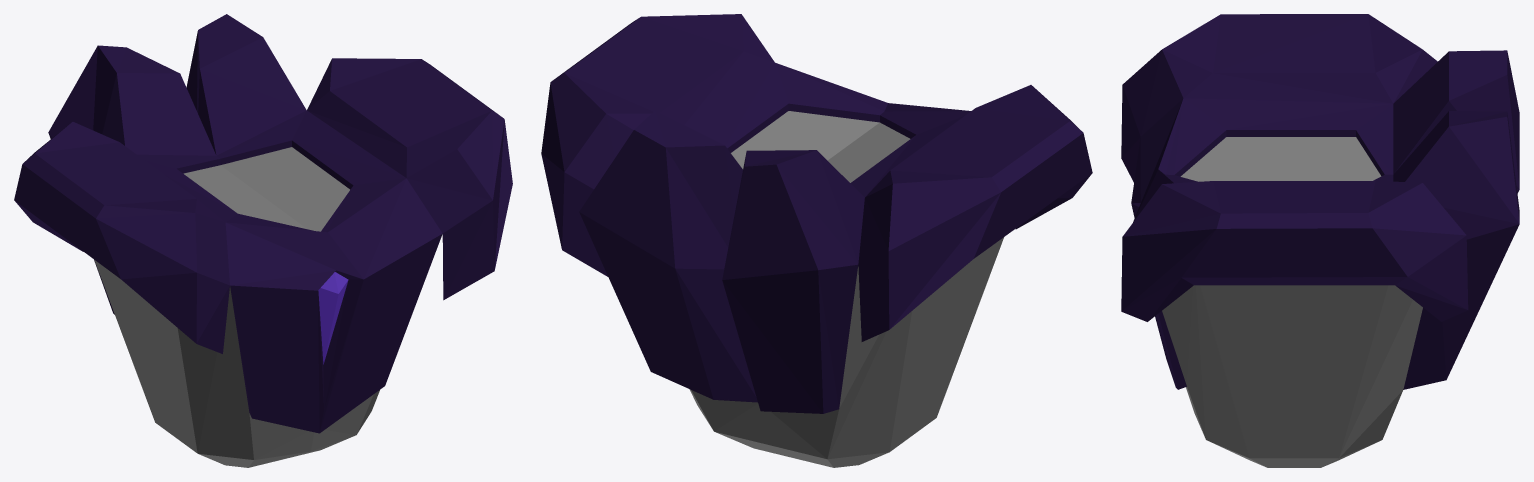
The model's file is Puranium jet suit.fbx.
The picture shows the model from 3 angles, left to right: view 1: azimuth 30°, elevation 25°; view 2: azimuth 150°, elevation 25°; view 3: azimuth 270°, elevation 25°; orthographic projection. The views are drawn at different scales.
Parts seen in each view (by area): view 1: Box016; view 2: Box016; view 3: Box016.
Boxes of the visible parts, bbox=[...] form: Box016: bbox=[14, 14, 512, 467]; Box016: bbox=[541, 14, 1092, 467]; Box016: bbox=[1121, 14, 1519, 467].
Bounding box in the file's own units: 28.21 × 22.42 × 22.6.
